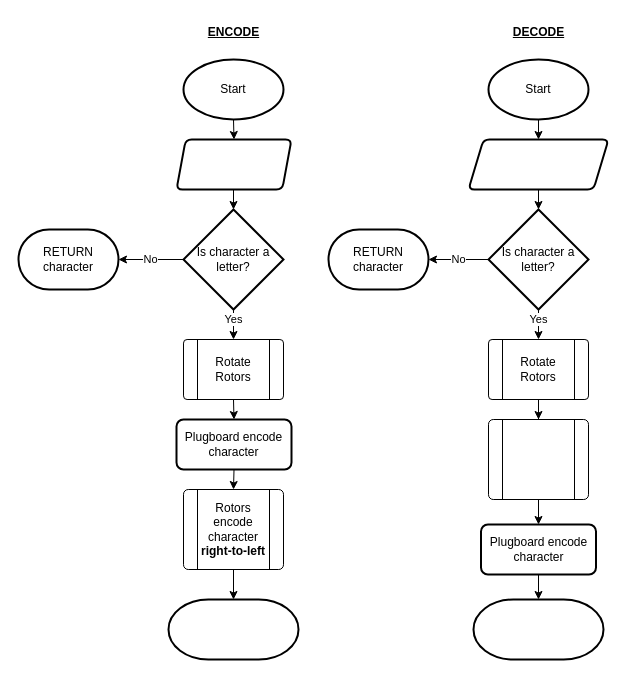
The diagram is 626 pixels wide and 677 high, and some of its shapes have lost their labels. Here are the shapes that lost their labels. From the top down, the centre of each, then its label:
At pixel 233 164: "INPUT Plaintext character".
At pixel 538 164: "INPUT Cyphertext character".
At pixel 538 459: "Rotors encode character left-to-right".
At pixel 233 629: "RETURN Cyphertext character".
At pixel 538 629: "RETURN Plaintext character".
